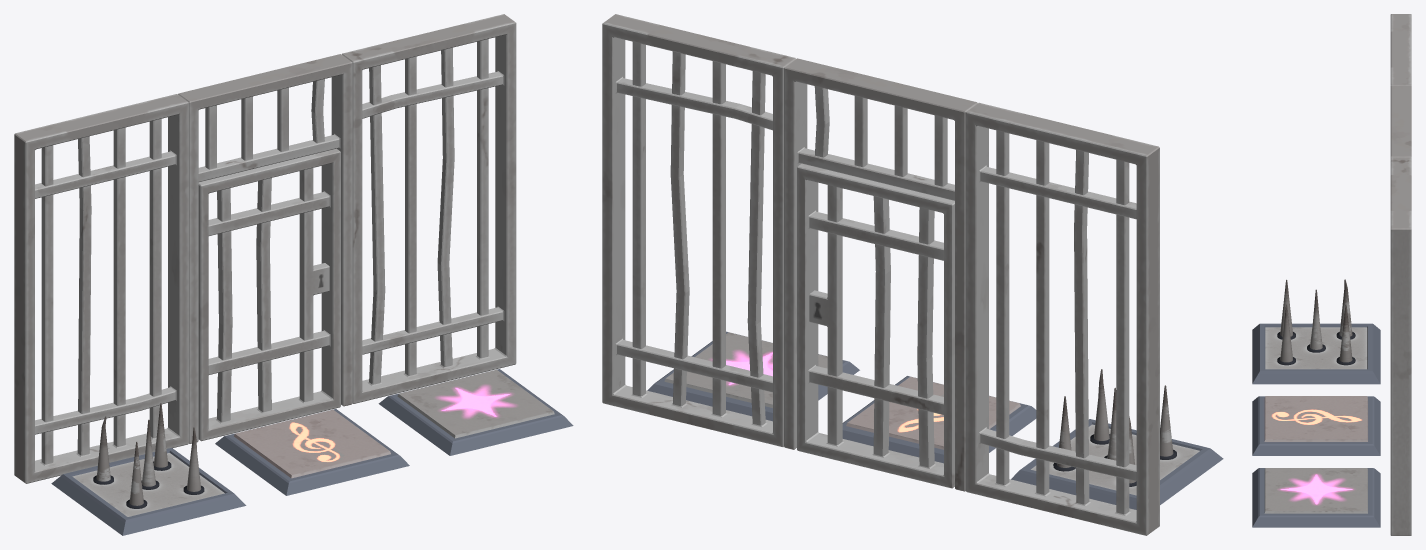
File: Game Assets P2.fbx
3 renders of one model, left to right at view 1: azimuth 30°, elevation 25°; view 2: azimuth 150°, elevation 25°; view 3: azimuth 270°, elevation 25°, orthographic. The views are drawn at different scales.
Visible parts, largest first — view 1: FencedWall2, FencedWall1, FencedDoor, FencedWall3, PressurePlateMagic, PressurePlateMusic, SpikeBase, Spikes; view 2: FencedWall2, FencedWall1, FencedDoor, FencedWall3, SpikeBase, PressurePlateMusic, PressurePlateMagic, Spikes; view 3: FencedWall1, PressurePlateMagic, PressurePlateMusic, SpikeBase, Spikes, FencedWall3, FencedWall2.
Part boxes in pixels (box(x1,y1,x2,y2)): FencedWall2: box(14, 94, 188, 483); FencedWall1: box(342, 14, 516, 403); FencedDoor: box(198, 148, 340, 441); FencedWall3: box(178, 54, 352, 443); PressurePlateMagic: box(378, 369, 573, 455); PressurePlateMusic: box(215, 409, 409, 495); SpikeBase: box(51, 447, 246, 535); Spikes: box(96, 403, 201, 505); FencedWall2: box(965, 102, 1159, 535); FencedWall1: box(602, 14, 795, 446); FencedDoor: box(797, 163, 954, 488); FencedWall3: box(784, 58, 977, 491); SpikeBase: box(1011, 419, 1223, 509); PressurePlateMusic: box(842, 376, 1036, 463); PressurePlateMagic: box(647, 331, 859, 421); Spikes: box(1057, 369, 1173, 483); FencedWall1: box(1390, 157, 1411, 535); PressurePlateMagic: box(1252, 468, 1380, 527); PressurePlateMusic: box(1252, 396, 1380, 455); SpikeBase: box(1252, 323, 1380, 384); Spikes: box(1280, 279, 1352, 362); FencedWall3: box(1390, 85, 1411, 157); FencedWall2: box(1390, 14, 1411, 85).
Bounding box in the file's own units: 600 × 400 × 188.
1 material, 1 textured.
